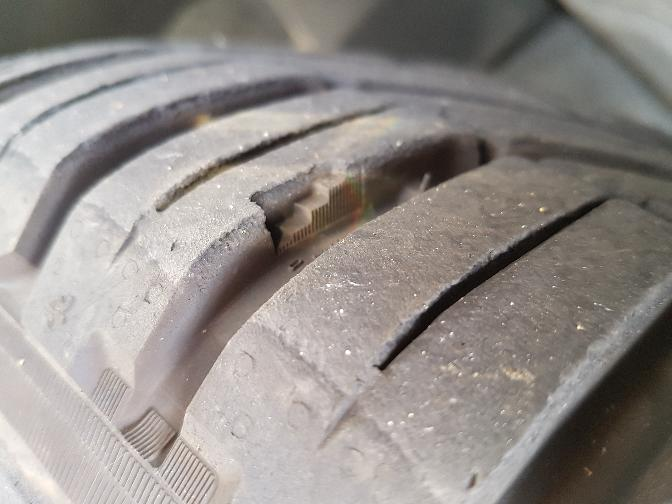temoin:90: (242, 148, 376, 257)
